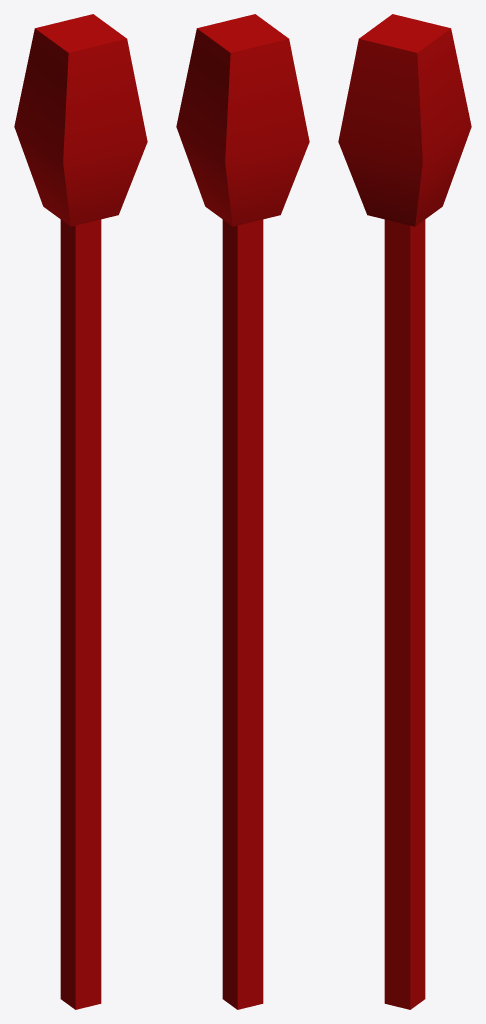
The model's file is SM_Prop_Tiki_Torch_03_Collision.gltf.
3 views of the same model, side by side, from view 1: azimuth 30°, elevation 25°; view 2: azimuth 210°, elevation 25°; view 3: azimuth 330°, elevation 25° (orthographic).
Parts seen in each view (by area): view 1: SM_Prop_Tiki_Torch_03_Collision; view 2: SM_Prop_Tiki_Torch_03_Collision; view 3: SM_Prop_Tiki_Torch_03_Collision.
Boxes of the visible parts, left/top/right/bottom form: SM_Prop_Tiki_Torch_03_Collision: left=14, top=14, right=147, bottom=1009; SM_Prop_Tiki_Torch_03_Collision: left=176, top=14, right=309, bottom=1009; SM_Prop_Tiki_Torch_03_Collision: left=338, top=14, right=471, bottom=1009.
Bounding box in the file's own units: 0.1976 × 2.16 × 0.1976.
